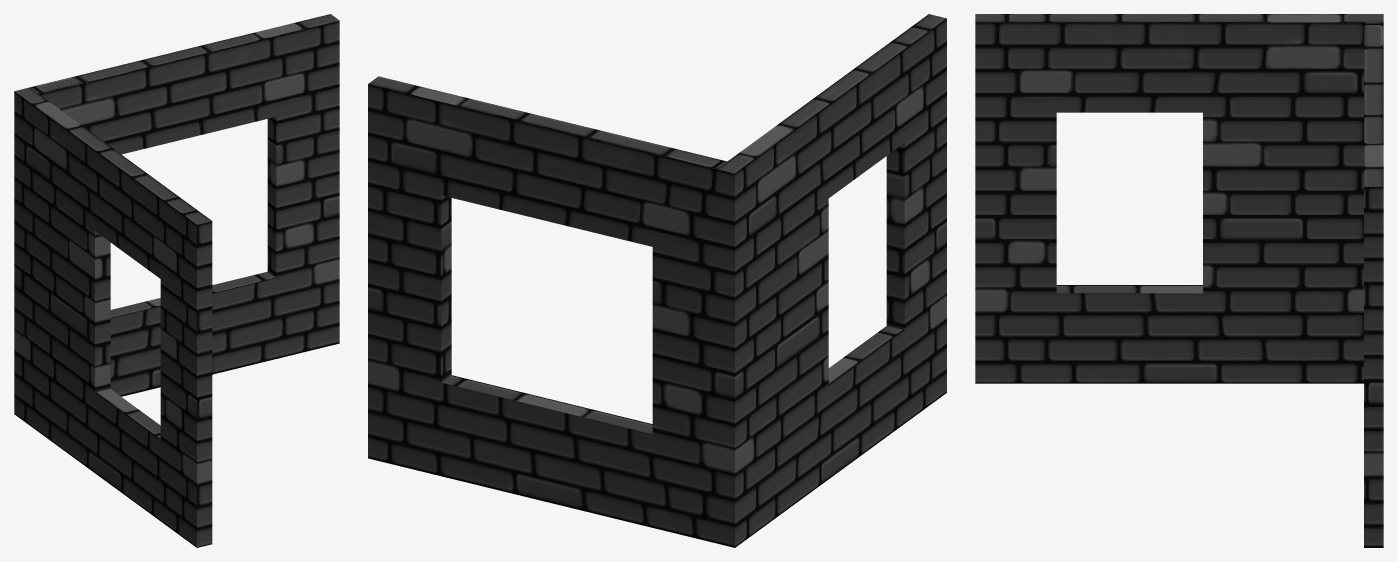
File: Wall_3_Corner_G.fbx
3 views of the same model, side by side, from view 1: azimuth 30°, elevation 25°; view 2: azimuth 150°, elevation 25°; view 3: azimuth 270°, elevation 25° (orthographic). The views are drawn at different scales.
Parts seen in each view (by area): view 1: polySurface24; view 2: polySurface24; view 3: polySurface24.
Part boxes in pixels (x1,y1,x2,y2): polySurface24: (14, 14, 339, 547); polySurface24: (368, 14, 946, 547); polySurface24: (975, 14, 1383, 547).
Size of the model in its own units: 4.1 by 4 by 4.1.
